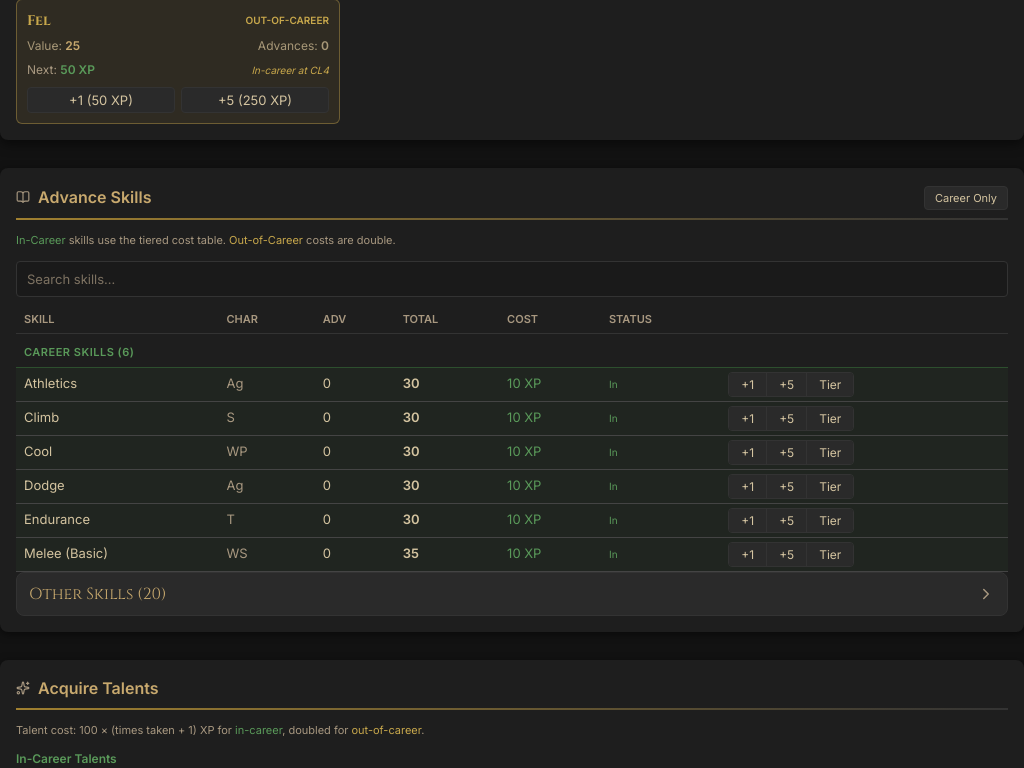
Test: AdvancementPage tooltip behavior › pressing Escape closes a skill tooltip (Req 2.2)
Click the button "Athletics": (51, 384) 24,374 -> 77,394
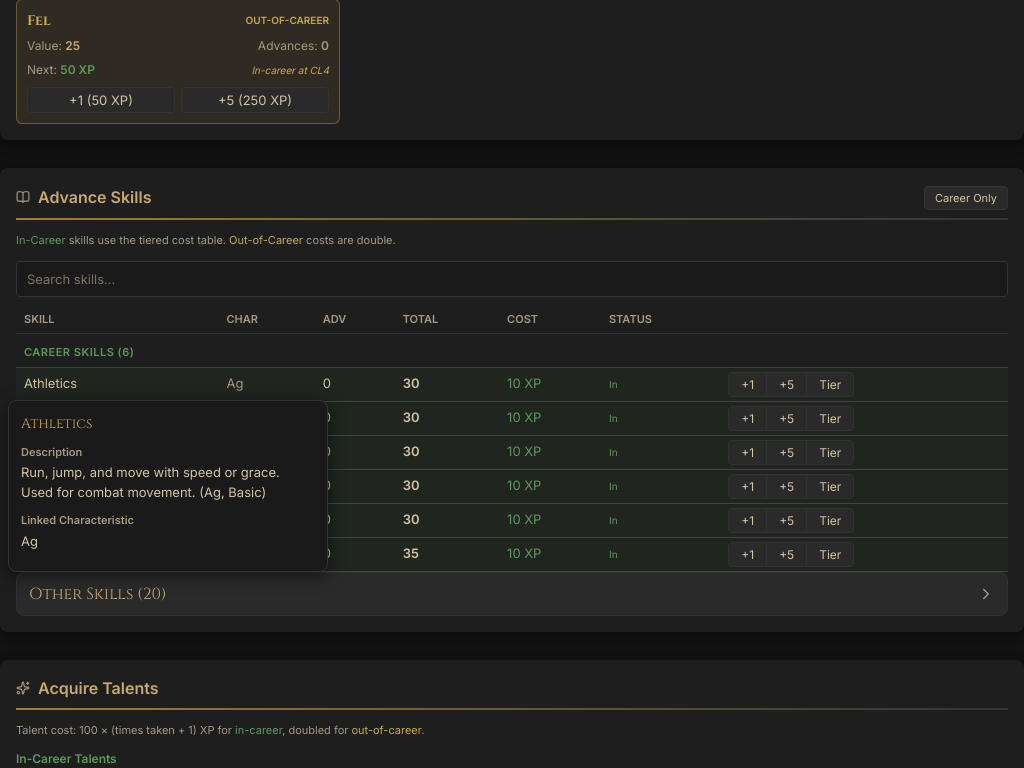
Now the tooltip is shown, box 8,400 -> 328,572
Press Escape
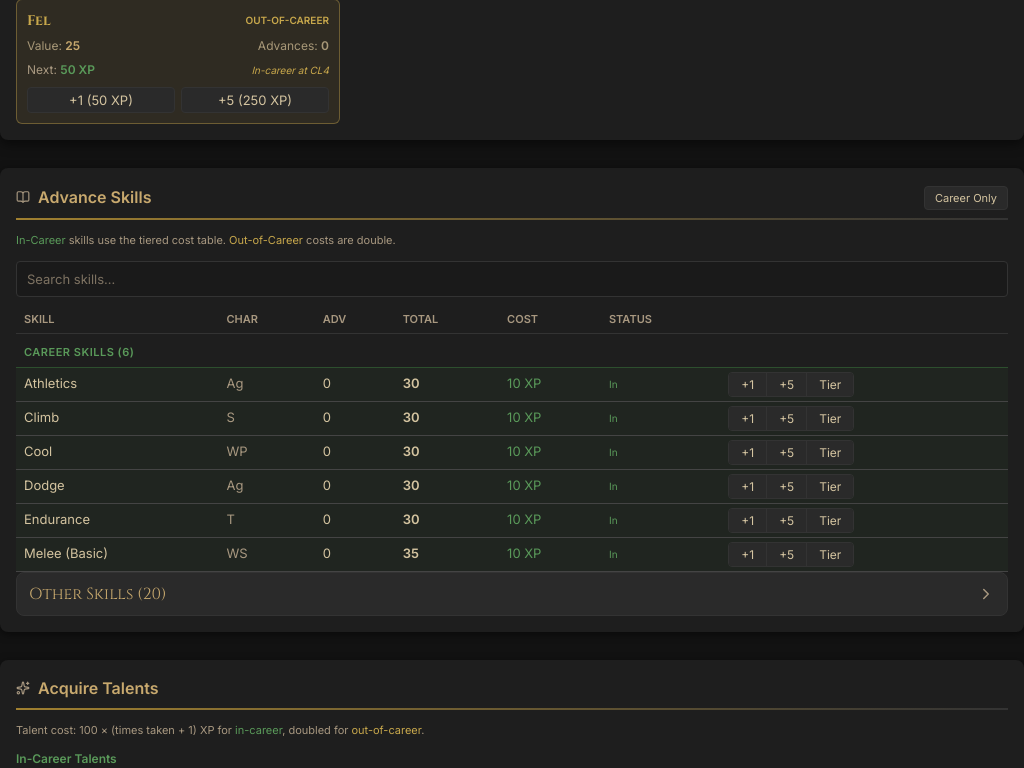
Now the tooltip is gone
